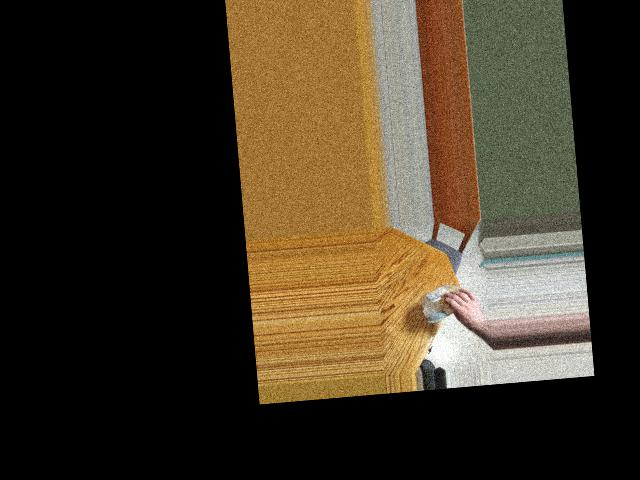cheese: (424, 286, 463, 318)
